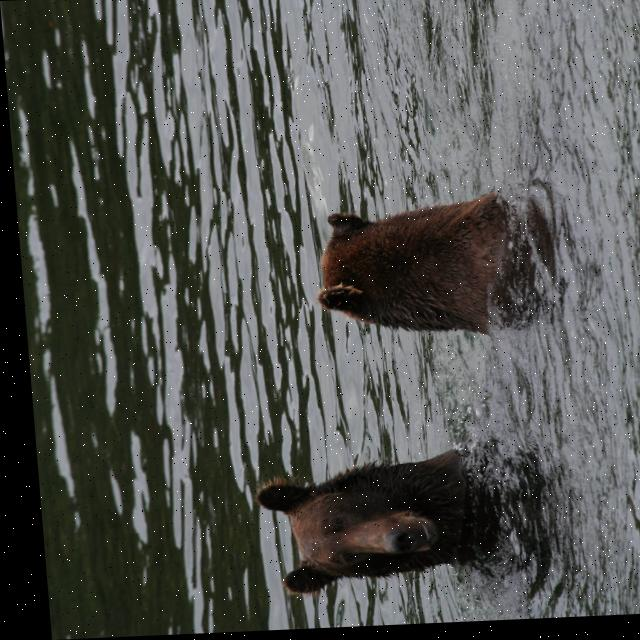bear face: (247, 454, 456, 597), (308, 206, 502, 341)
